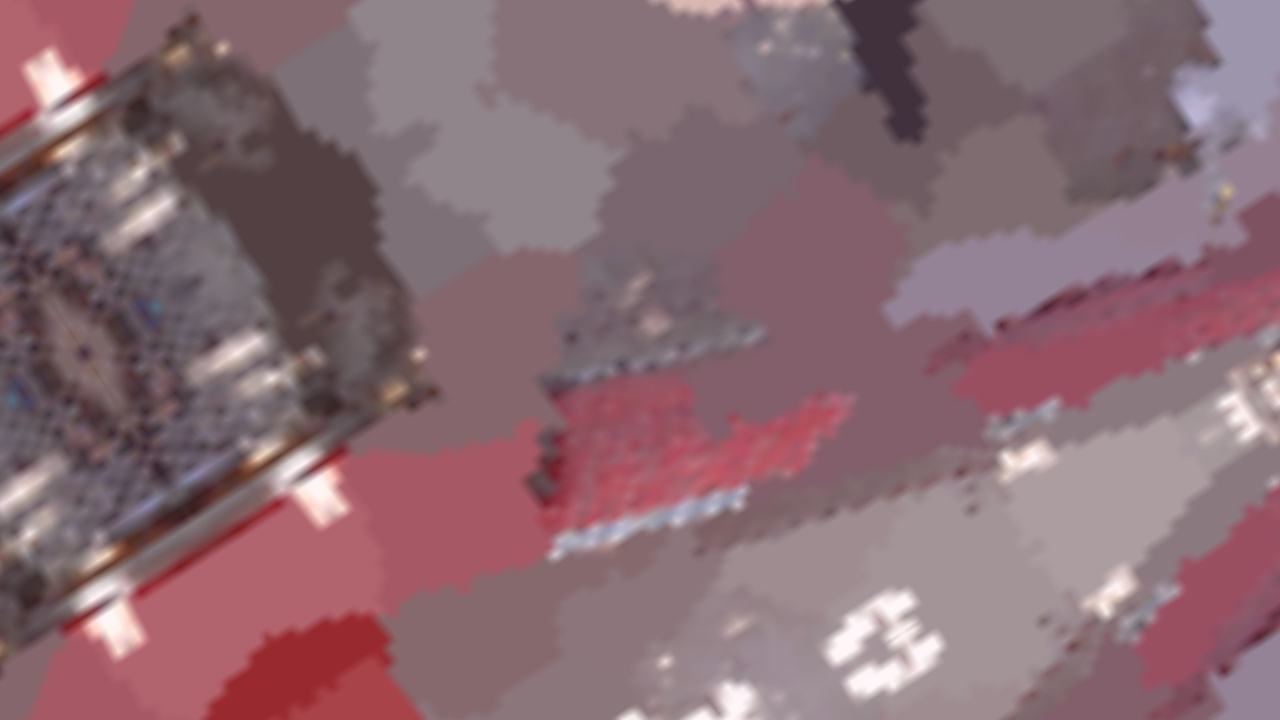person: (812, 1, 948, 148)
